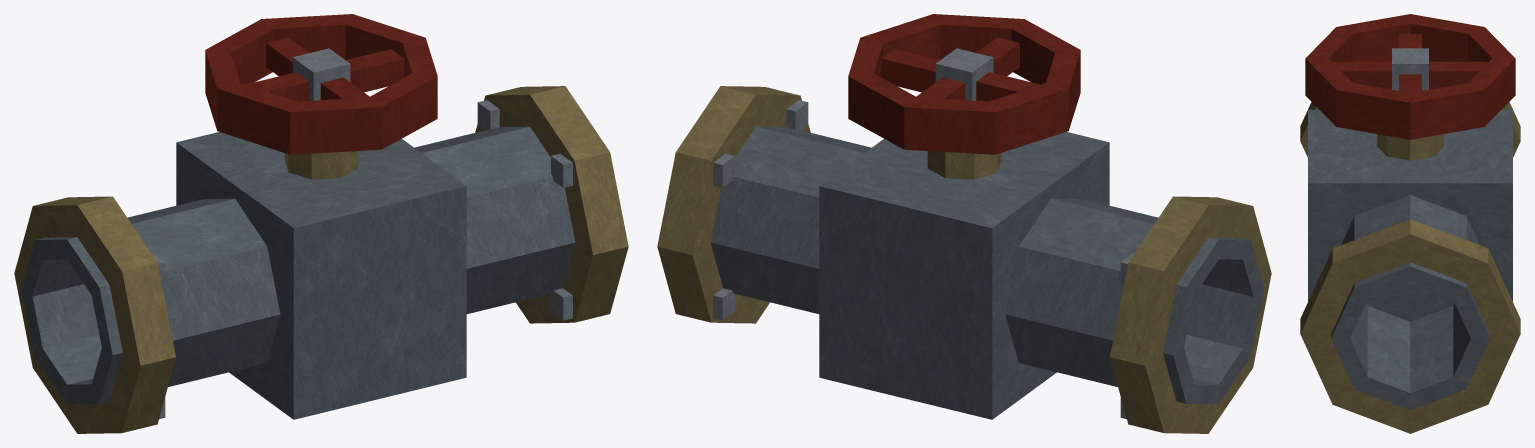
The model's file is valve.gltf.
The picture shows the model from 3 angles, left to right: view 1: azimuth 30°, elevation 25°; view 2: azimuth 150°, elevation 25°; view 3: azimuth 270°, elevation 25°; orthographic projection. The views are drawn at different scales.
Size of the model in its own units: 1 by 0.59 by 0.43.
Materials: 4 (4 with a texture image).
